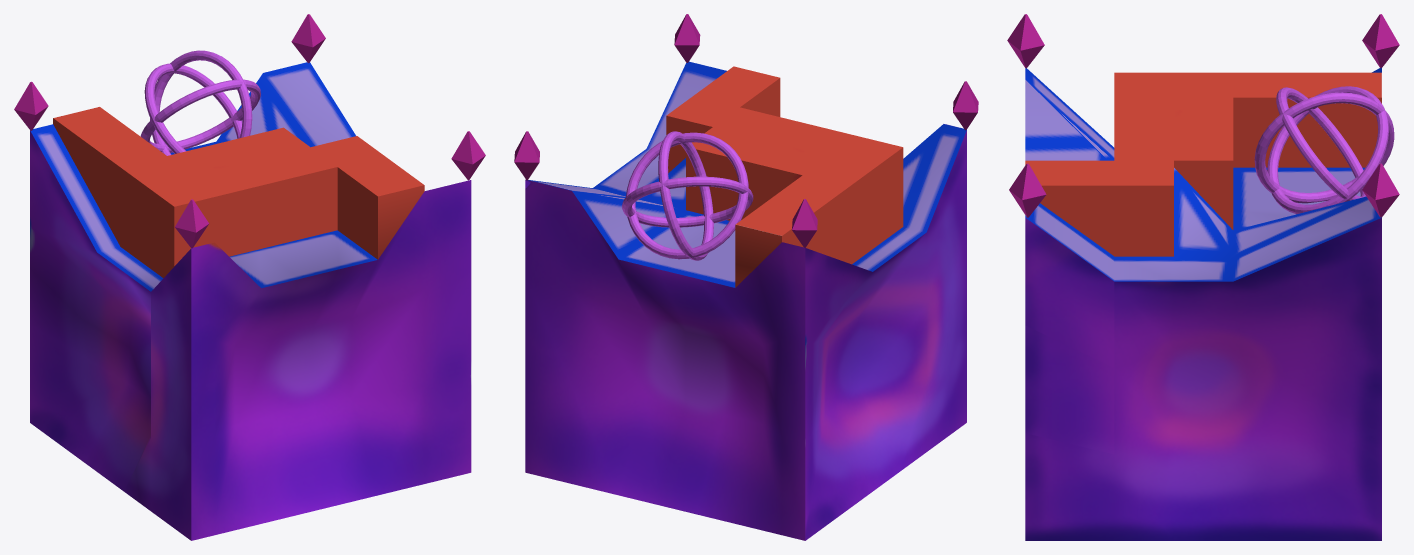
The model's file is Level 2 FIXED-2.fbx.
The picture shows the model from 3 angles, left to right: view 1: azimuth 30°, elevation 25°; view 2: azimuth 150°, elevation 25°; view 3: azimuth 270°, elevation 25°; orthographic projection. The views are drawn at different scales.
Visible parts, largest first — view 1: Level 2, Torus.001, Cube.005, Cube.004, Cube.007, Cube.003; view 2: Level 2, Torus.001, Cube.007, Cube.005, Cube.004, Cube.003; view 3: Level 2, Torus.001, Cube.003, Cube.005, Cube.004, Cube.007.
Boxes of the visible parts, left/top/right/bottom form: Level 2: left=30, top=62, right=471, bottom=540; Torus.001: left=140, top=50, right=260, bottom=155; Cube.005: left=14, top=81, right=48, bottom=130; Cube.004: left=451, top=131, right=485, bottom=180; Cube.007: left=175, top=199, right=209, bottom=248; Cube.003: left=291, top=14, right=325, bottom=63; Level 2: left=525, top=61, right=966, bottom=540; Torus.001: left=622, top=131, right=753, bottom=260; Cube.007: left=953, top=81, right=978, bottom=130; Cube.005: left=792, top=199, right=817, bottom=247; Cube.004: left=674, top=14, right=700, bottom=62; Cube.003: left=514, top=131, right=539, bottom=179; Level 2: left=1025, top=68, right=1381, bottom=540; Torus.001: left=1254, top=86, right=1394, bottom=214; Cube.003: left=1362, top=163, right=1399, bottom=217; Cube.005: left=1362, top=14, right=1399, bottom=68; Cube.004: left=1009, top=163, right=1046, bottom=217; Cube.007: left=1007, top=14, right=1044, bottom=68.
Bounding box in the file's own units: 1316 × 1422 × 1320.
